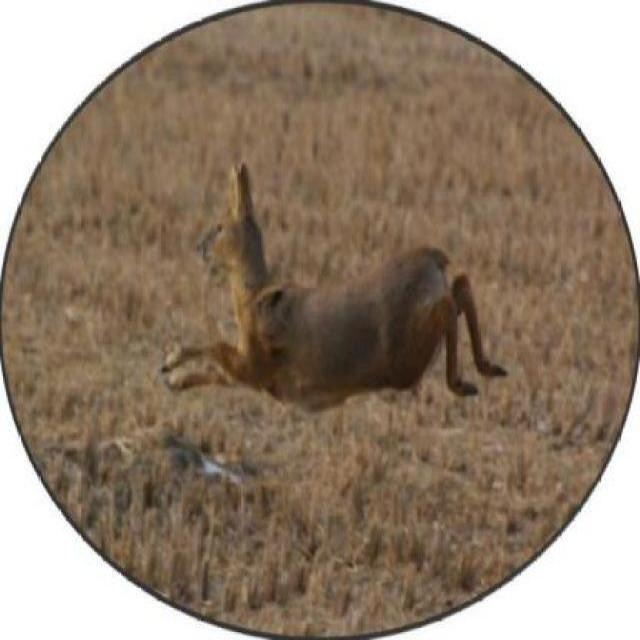deer: (156, 155, 522, 450)
